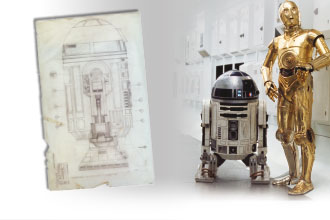r2d2: (197, 70, 270, 184)
